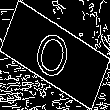O_SW: (32, 23, 78, 87)
